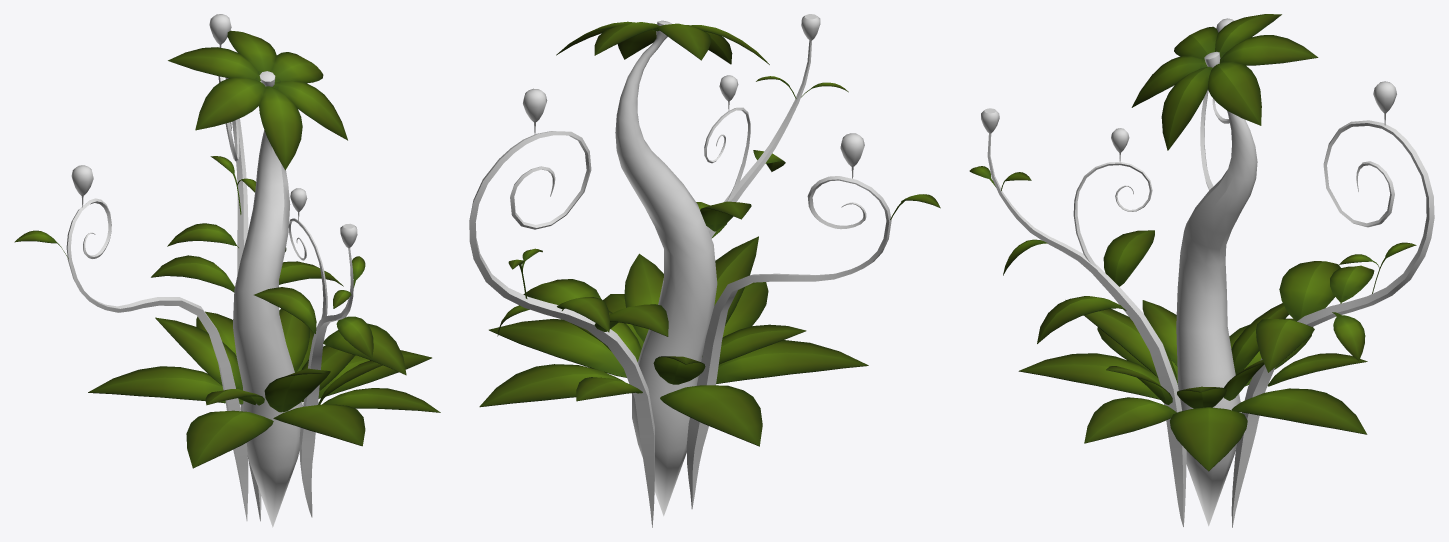
The model's file is House_Tree_Of_Light.fbx.
The picture shows the model from 3 angles, left to right: view 1: azimuth 30°, elevation 25°; view 2: azimuth 150°, elevation 25°; view 3: azimuth 270°, elevation 25°; orthographic projection. The views are drawn at different scales.
Parts seen in each view (by area): view 1: House_Tree_Of_Light; view 2: House_Tree_Of_Light; view 3: House_Tree_Of_Light.
Part boxes in pixels (x1,y1,x2,y2): House_Tree_Of_Light: (14, 14, 440, 527); House_Tree_Of_Light: (469, 14, 940, 527); House_Tree_Of_Light: (969, 14, 1434, 527).
Size of the model in its own units: 6.59 by 7.12 by 6.15.
